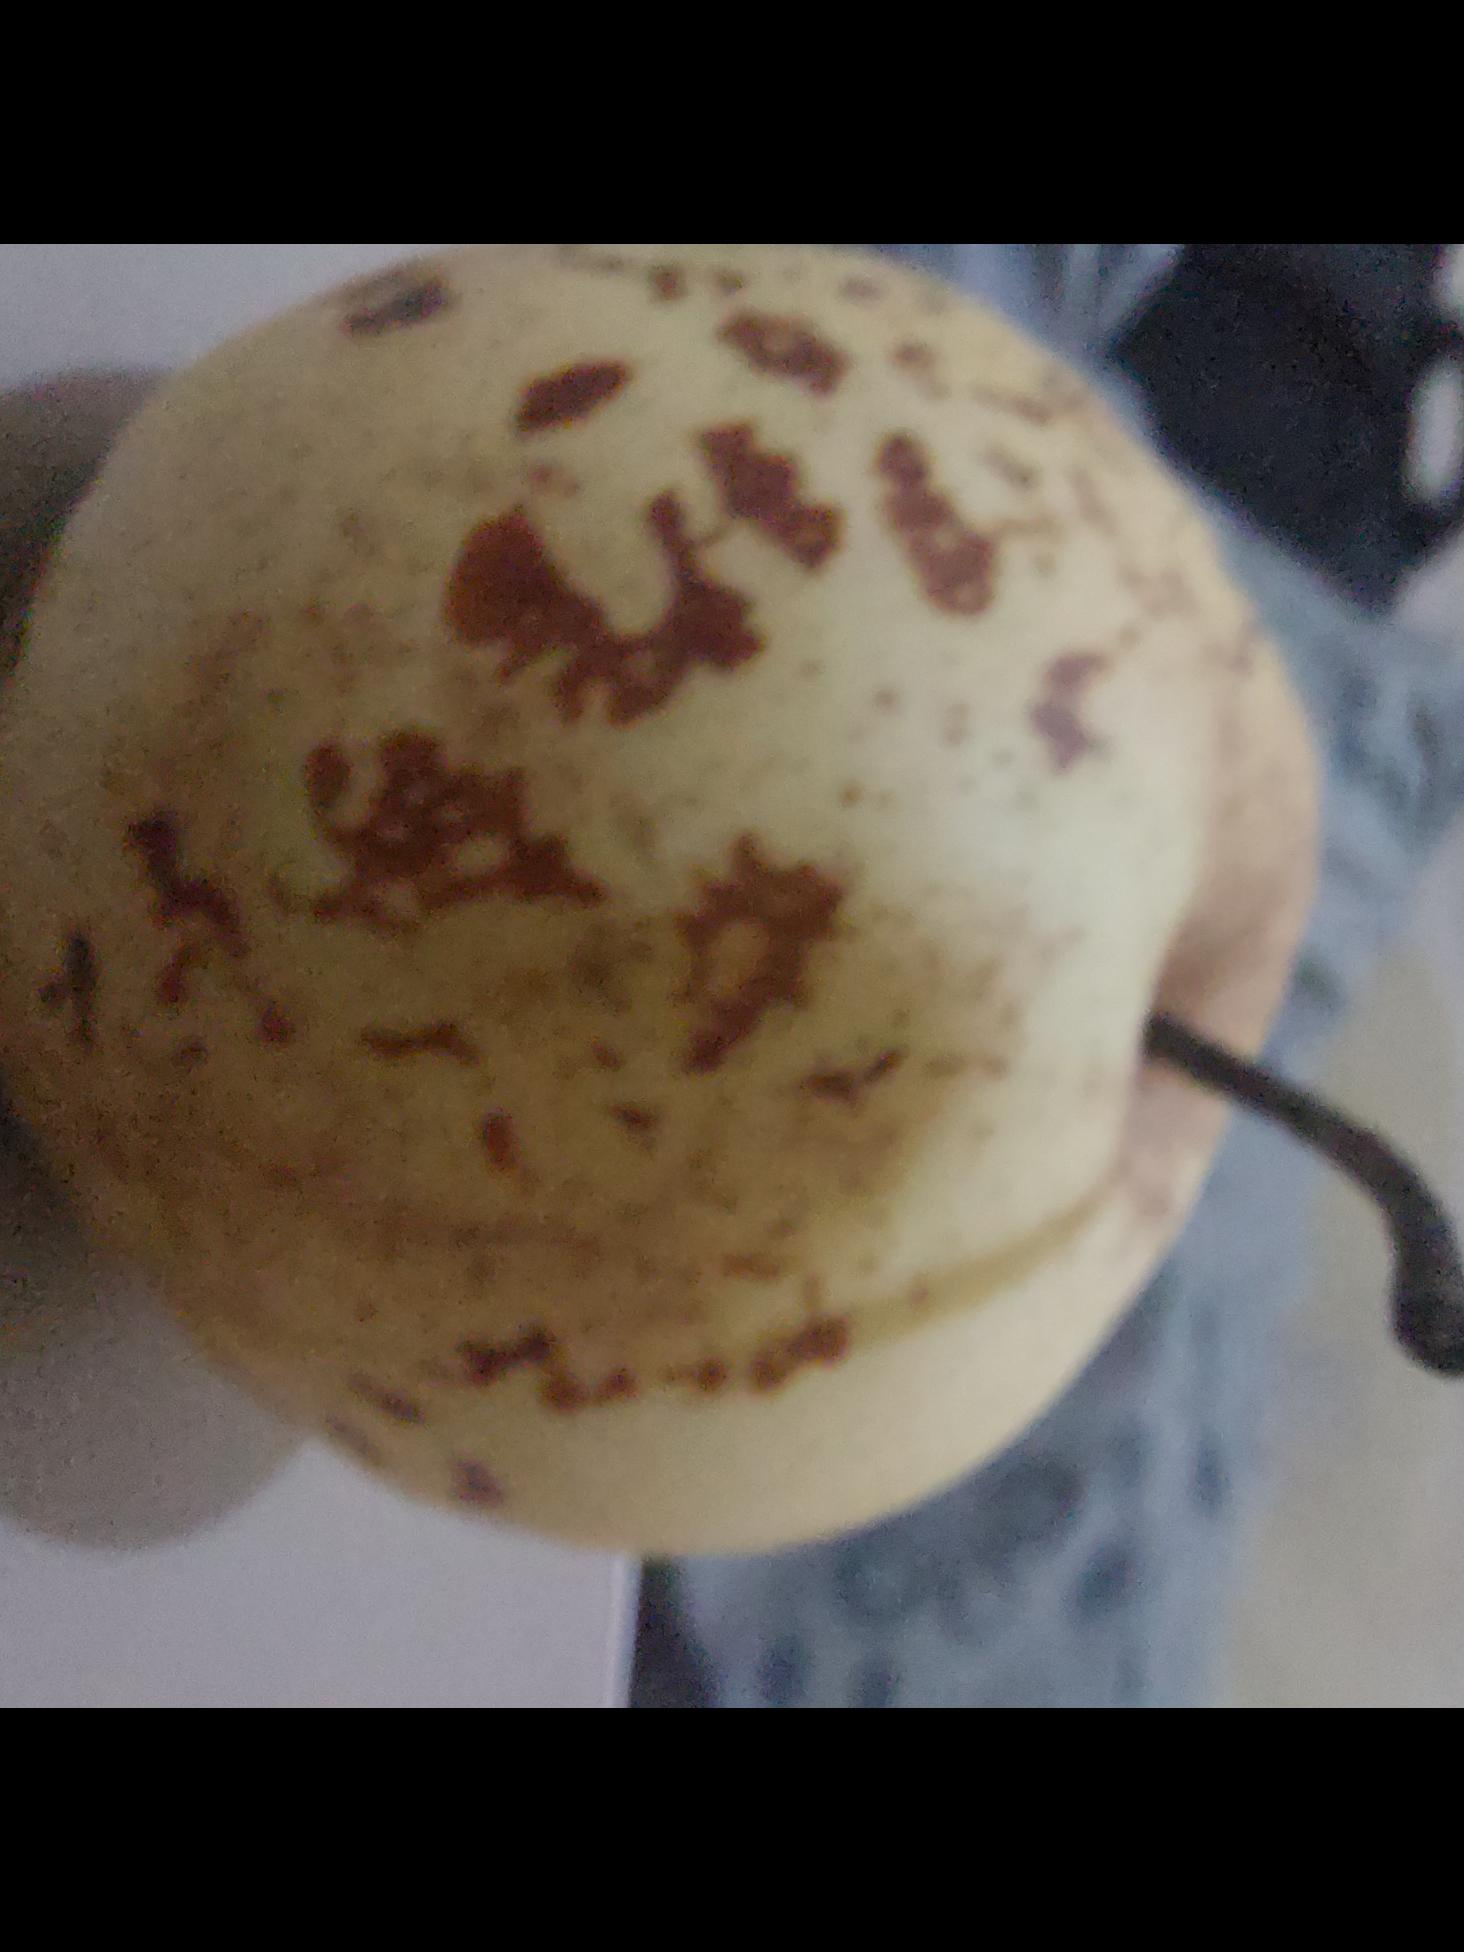Bad Pear: (0, 244, 1321, 1574)
